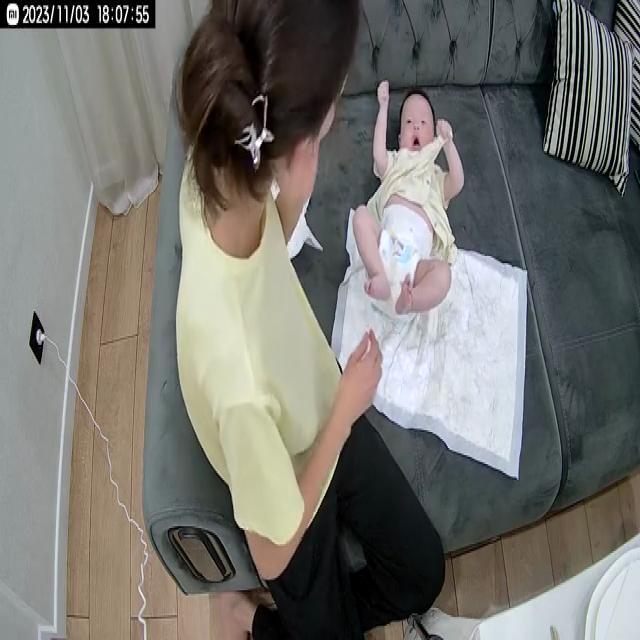baby: (348, 78, 467, 324)
